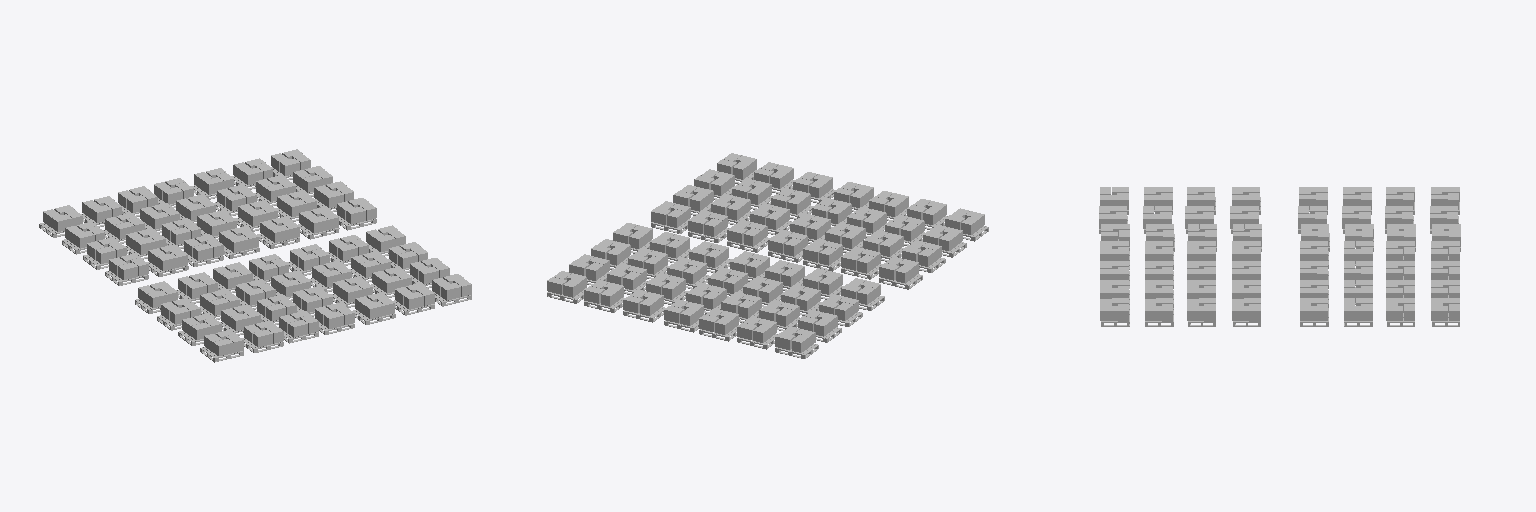
The model's file is shelf.obj.
3 renders of one model, left to right at view 1: azimuth 30°, elevation 25°; view 2: azimuth 150°, elevation 25°; view 3: azimuth 270°, elevation 25°, orthographic.
Visible parts, largest first — view 1: CardboardBox3, CardboardBox2, CardboardBox4, ImportedMesh1, CardboardBox1; view 2: CardboardBox2, CardboardBox1, CardboardBox3, ImportedMesh1, CardboardBox4; view 3: CardboardBox4, CardboardBox1, CardboardBox2, CardboardBox3, ImportedMesh1.
Boxes of the visible parts, x1,y1,x2,y2 form: CardboardBox3: [52, 158, 460, 355]; CardboardBox2: [43, 153, 449, 351]; CardboardBox4: [64, 154, 471, 352]; ImportedMesh1: [39, 167, 471, 362]; CardboardBox1: [54, 149, 463, 339]; CardboardBox2: [563, 161, 979, 352]; CardboardBox1: [547, 159, 964, 349]; CardboardBox3: [567, 155, 984, 345]; ImportedMesh1: [547, 170, 988, 358]; CardboardBox4: [554, 153, 969, 335]; CardboardBox4: [1099, 195, 1448, 320]; CardboardBox1: [1116, 193, 1460, 321]; CardboardBox2: [1110, 187, 1460, 312]; CardboardBox3: [1099, 187, 1443, 305]; ImportedMesh1: [1099, 197, 1460, 326].
Bounding box in the file's own units: 10.61 × 0.6889 × 12.7.